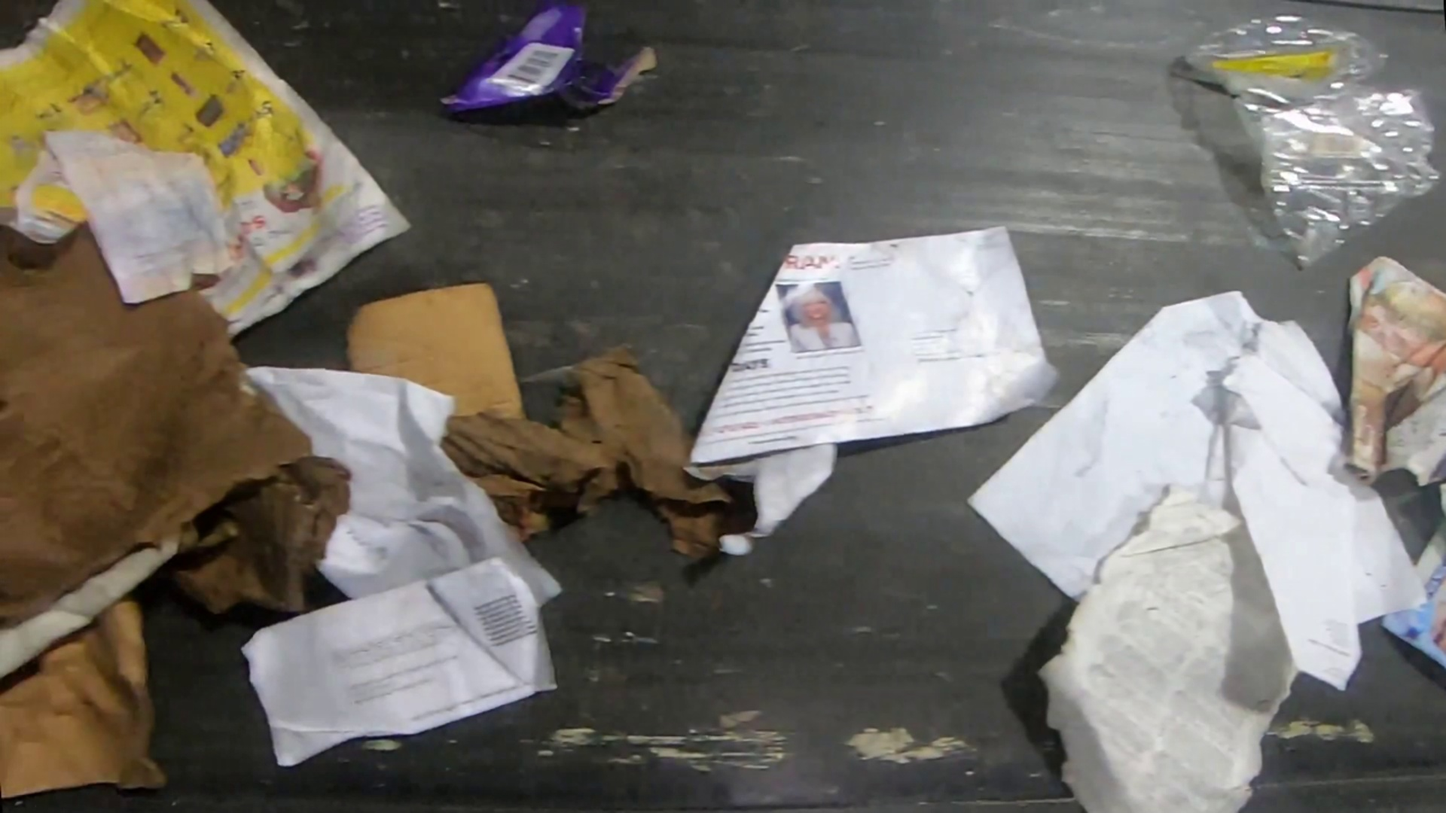cardboard: (0, 220, 349, 633), (347, 280, 736, 558), (0, 599, 167, 795), (439, 0, 656, 118)
plastic: (1183, 15, 1444, 269)
